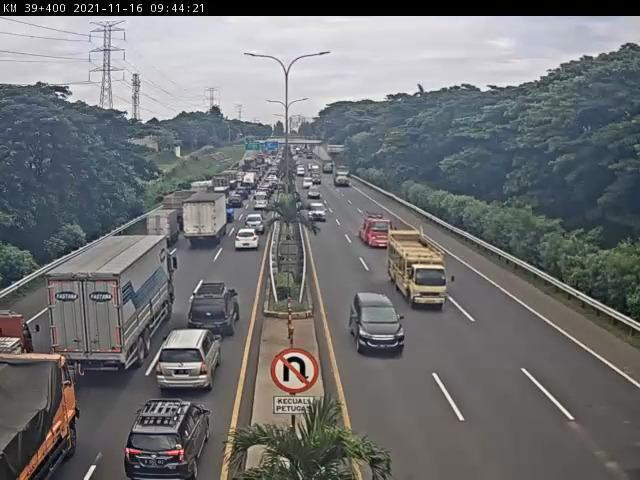car: (130, 392, 202, 474), (158, 327, 222, 392), (350, 293, 406, 359), (193, 277, 238, 334), (233, 229, 266, 254), (239, 216, 267, 230), (308, 198, 327, 216), (253, 196, 270, 212), (228, 194, 242, 212), (308, 184, 323, 196), (311, 171, 321, 185), (298, 166, 306, 177), (304, 178, 311, 185), (312, 165, 319, 170)
truck: (45, 238, 182, 374), (1, 355, 77, 480), (391, 232, 452, 312), (182, 194, 229, 249), (361, 210, 397, 250), (142, 211, 178, 245), (332, 166, 351, 190), (323, 163, 336, 176)
